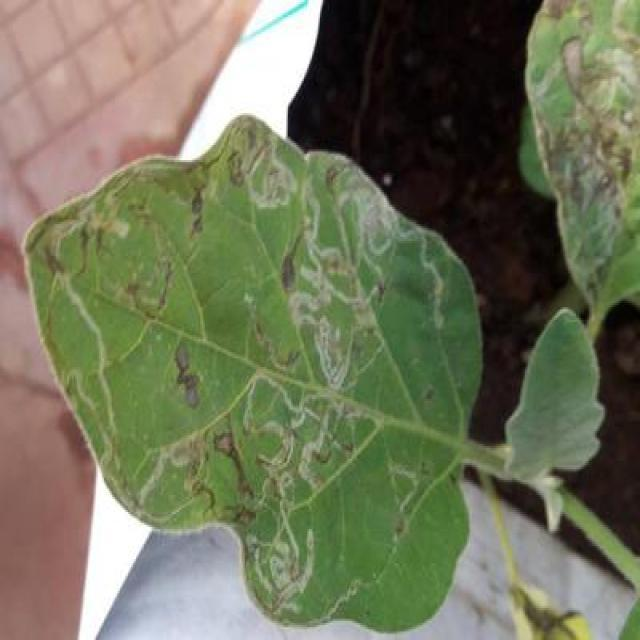Tomato target spot leaf: (17, 110, 486, 640), (518, 0, 640, 315)
